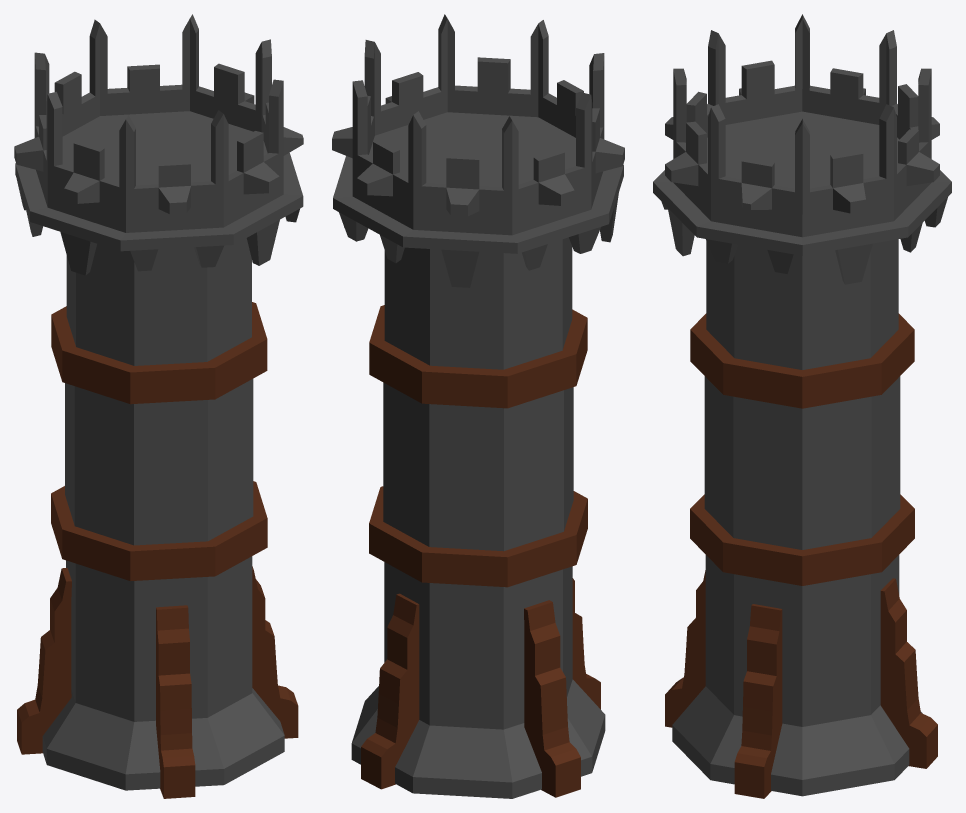
The model's file is Tower.fbx.
3 views of the same model, side by side, from view 1: azimuth 30°, elevation 25°; view 2: azimuth 150°, elevation 25°; view 3: azimuth 270°, elevation 25° (orthographic).
Visible parts, largest first — view 1: Circle; view 2: Circle; view 3: Circle.
Part boxes in pixels (left/top/right/bottom): Circle: left=14, top=14, right=303, bottom=798; Circle: left=332, top=14, right=624, bottom=798; Circle: left=653, top=14, right=951, bottom=798.
Size of the model in its own units: 918 by 2284 by 918.
